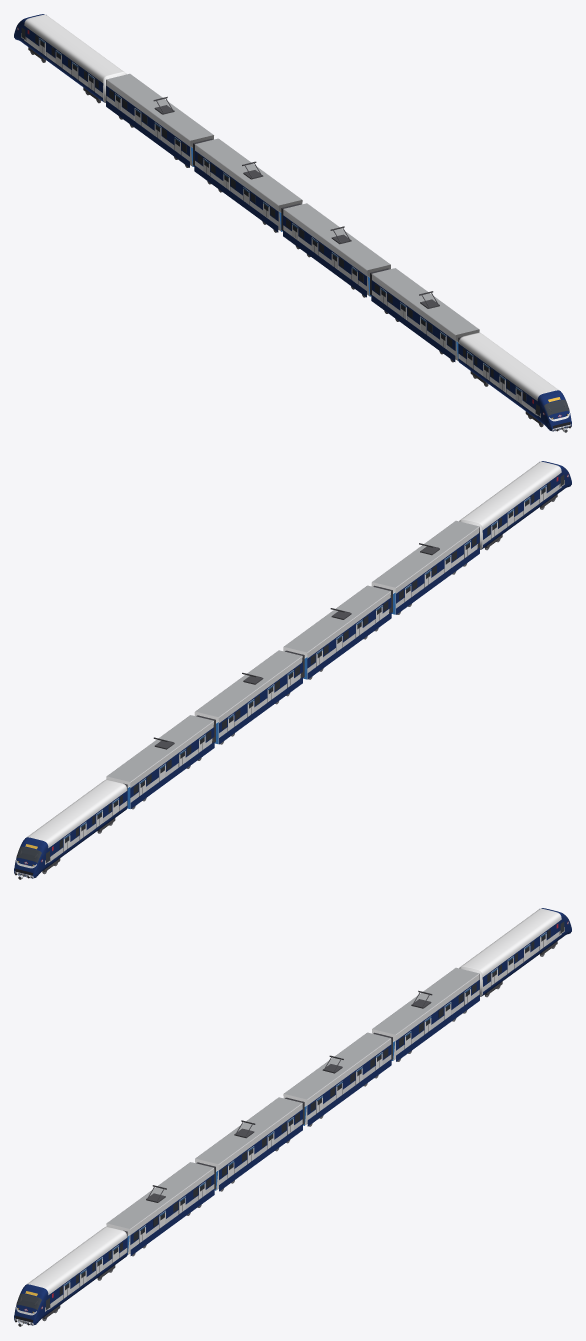
3 views of the same model, one above another, from view 1: azimuth 30°, elevation 25°; view 2: azimuth 150°, elevation 25°; view 3: azimuth 330°, elevation 25° (orthographic).
Parts seen in each view (by area): view 1: car_00_mesh, car_03_mesh, car_01_mesh, car_02_mesh, car_04_mesh, car_05_mesh; view 2: car_05_mesh, car_02_mesh, car_04_mesh, car_01_mesh, car_03_mesh, car_00_mesh; view 3: car_00_mesh, car_03_mesh, car_01_mesh, car_02_mesh, car_04_mesh, car_05_mesh.
Boxes of the visible parts, <box> form: car_00_mesh: <box>458,332,571,432</box>; car_03_mesh: <box>194,138,302,232</box>; car_01_mesh: <box>371,268,479,361</box>; car_02_mesh: <box>283,203,390,297</box>; car_04_mesh: <box>106,73,213,167</box>; car_05_mesh: <box>14,14,126,102</box>; car_05_mesh: <box>14,779,127,879</box>; car_02_mesh: <box>283,585,391,679</box>; car_04_mesh: <box>106,715,214,808</box>; car_01_mesh: <box>371,520,479,614</box>; car_03_mesh: <box>194,650,302,744</box>; car_00_mesh: <box>459,461,571,549</box>; car_00_mesh: <box>14,1226,127,1326</box>; car_03_mesh: <box>283,1032,391,1126</box>; car_01_mesh: <box>106,1162,214,1255</box>; car_02_mesh: <box>195,1097,302,1191</box>; car_04_mesh: <box>372,967,479,1061</box>; car_05_mesh: <box>459,908,571,996</box>.
Size of the model in its own units: 2.89 by 4.88 by 110.
